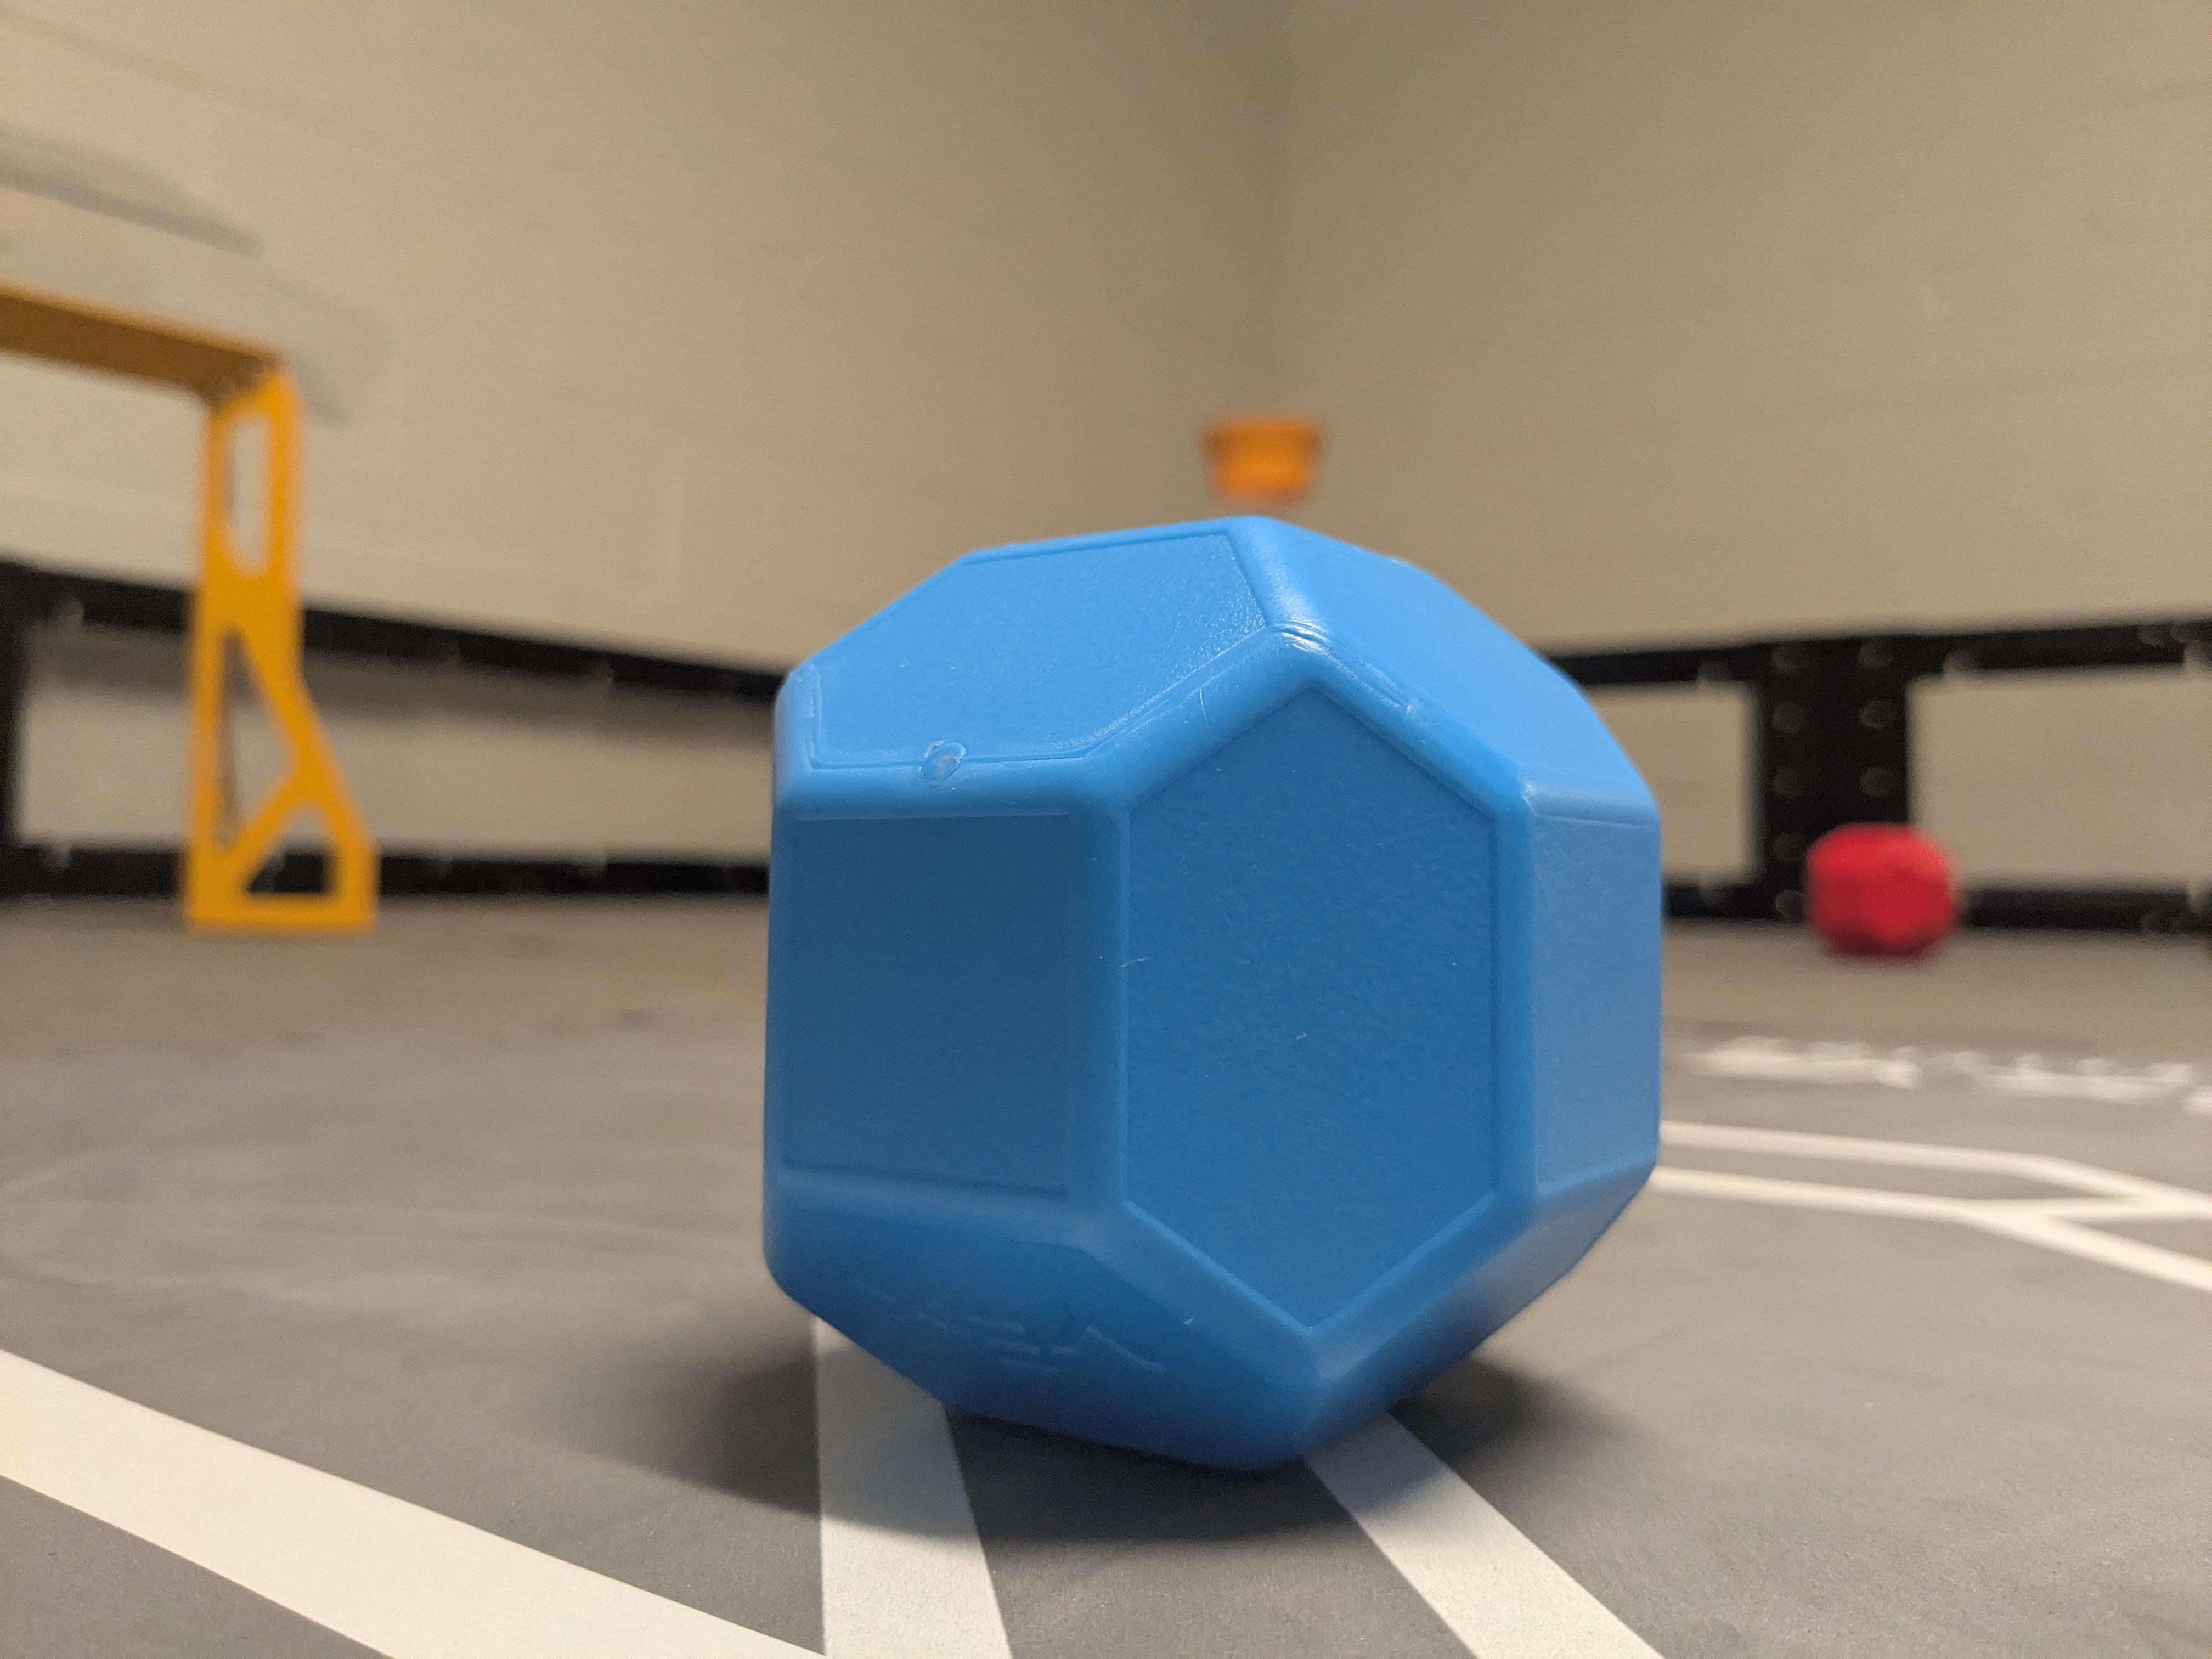Vex-Pieces-BLUE: (766, 528, 1676, 1460)
